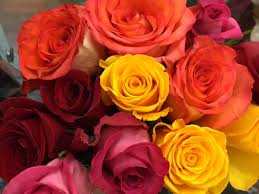lale: (163, 37, 254, 134), (77, 115, 169, 194), (14, 1, 90, 87), (80, 0, 193, 57), (97, 49, 179, 127), (1, 97, 75, 182), (152, 119, 235, 194), (36, 68, 114, 127), (185, 0, 252, 44)
